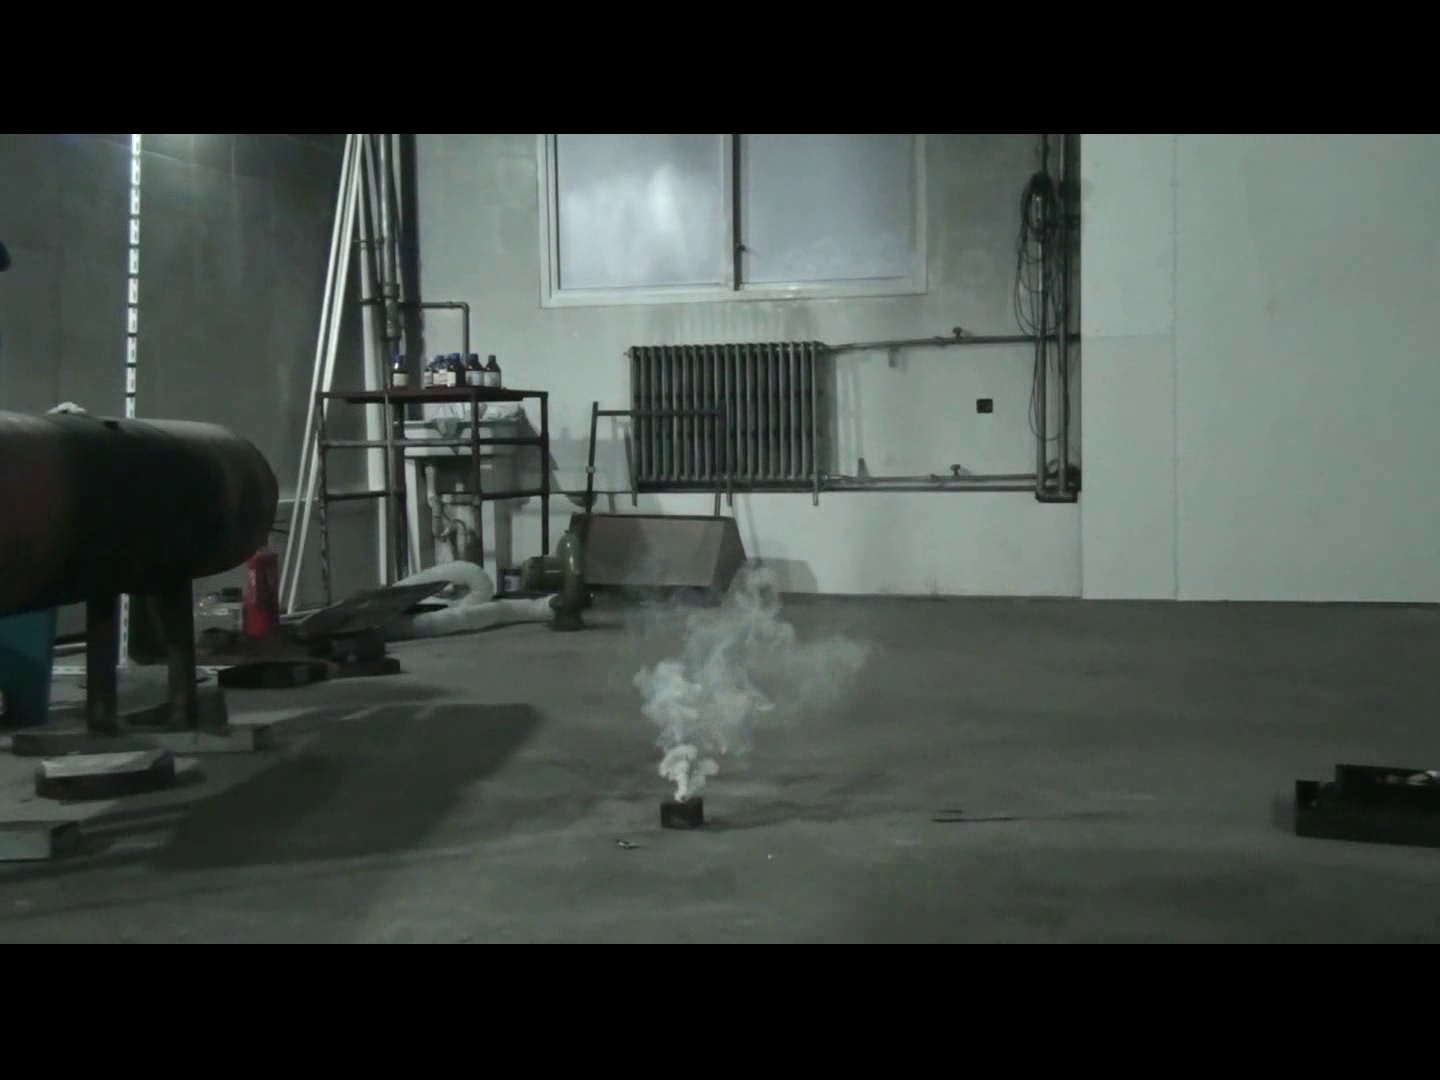smoke: (599, 517, 874, 799)
